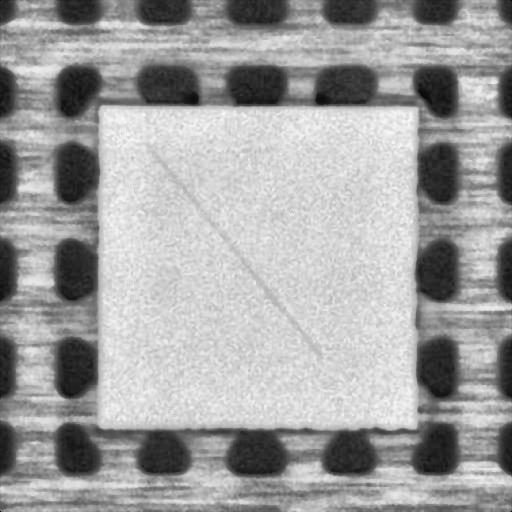DIE_CRACK: (148, 141, 324, 349)
